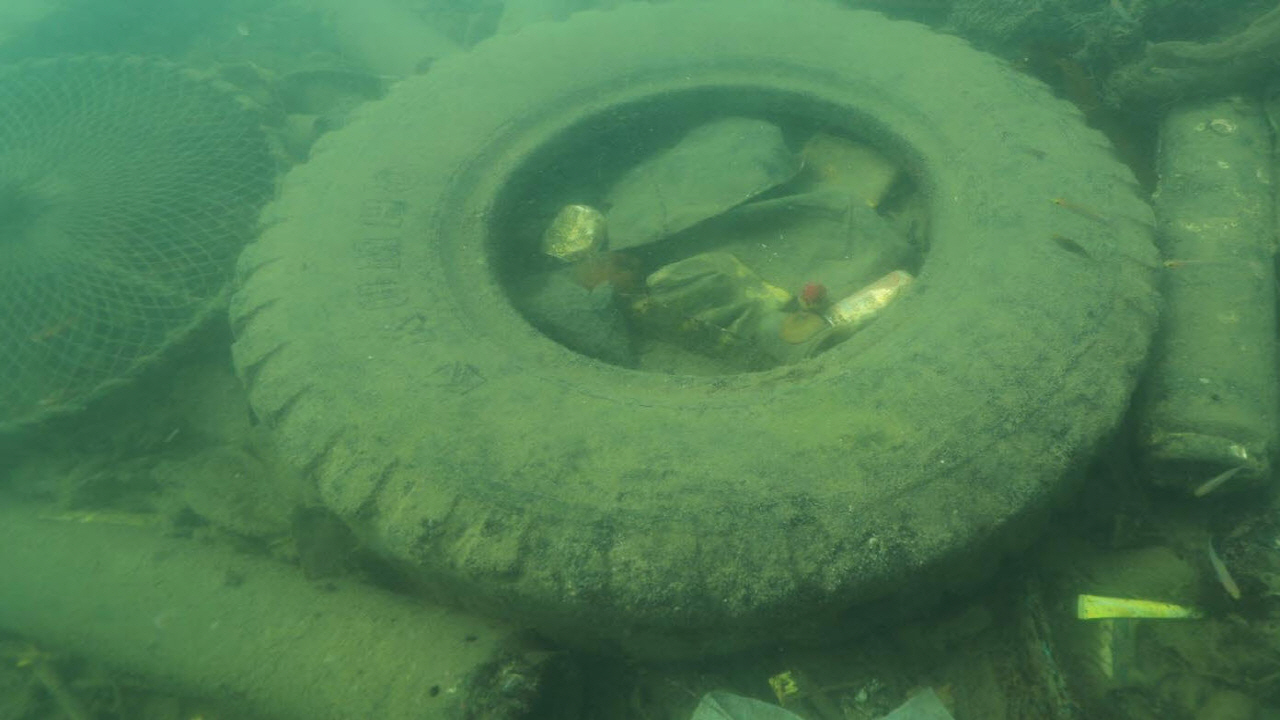circular fish trap: (0, 54, 285, 435)
eel fish trap: (0, 505, 580, 720), (1135, 84, 1280, 494)
tire: (226, 0, 1161, 668)
